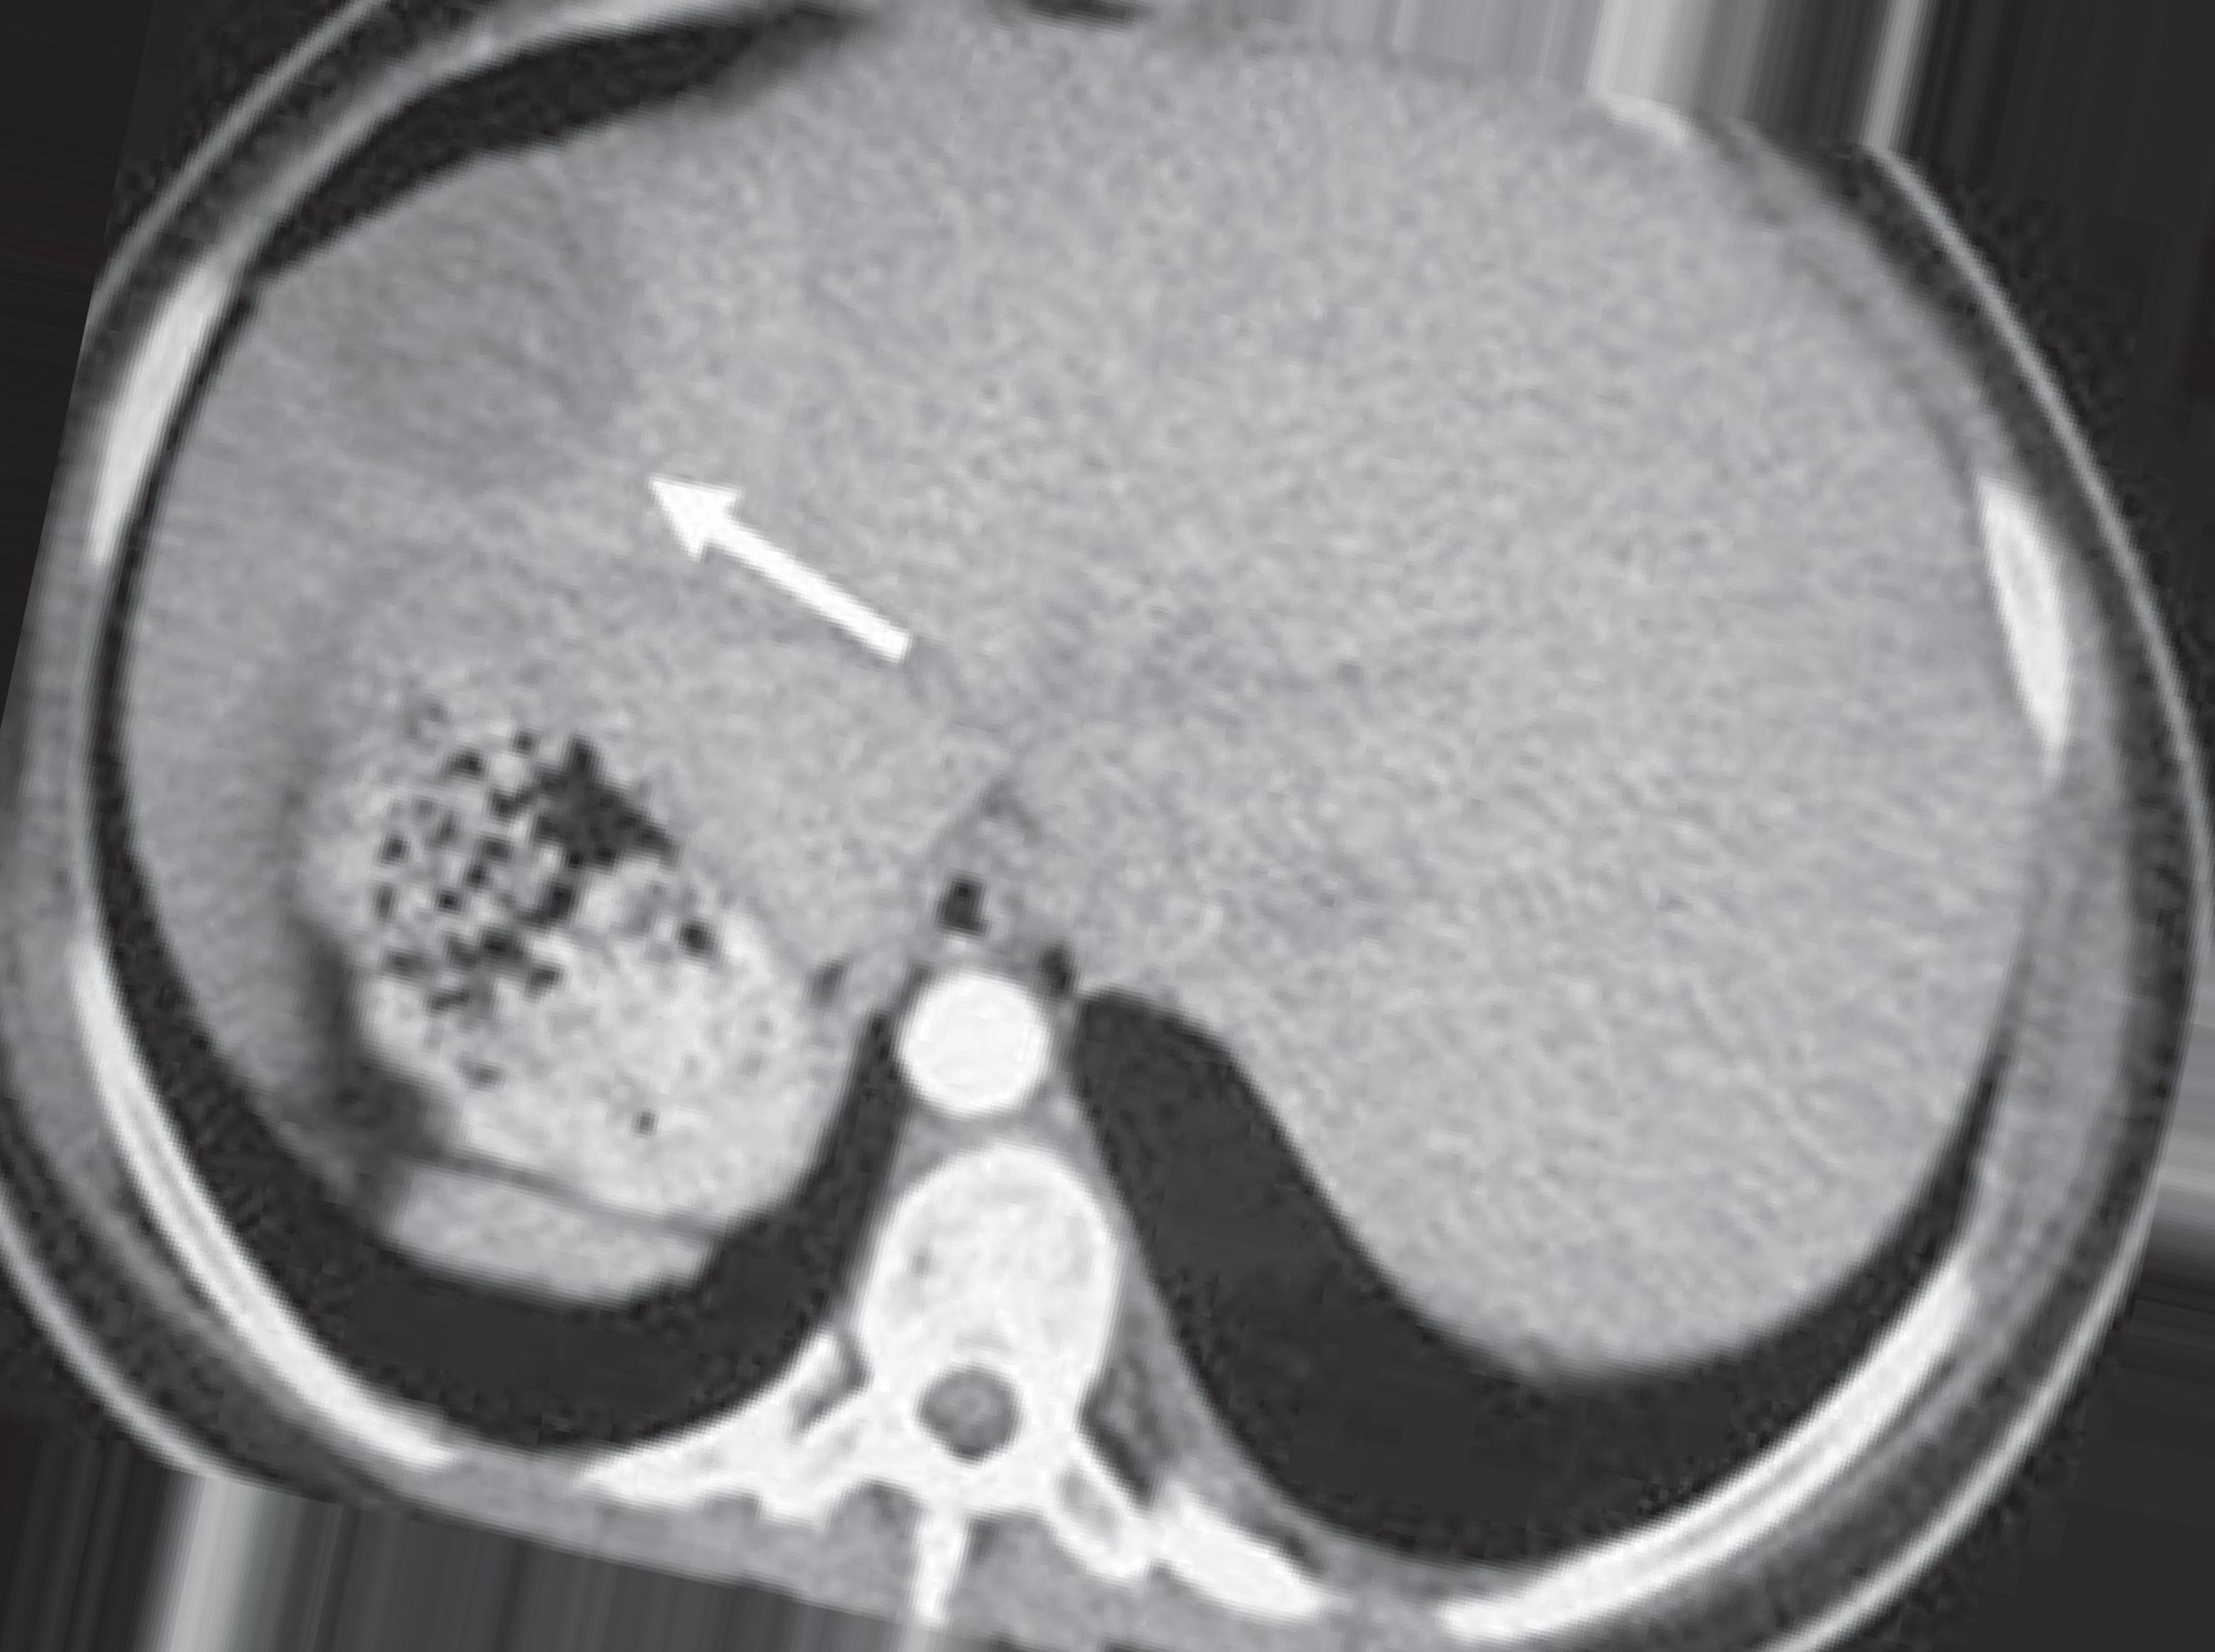anomaly: (300, 215, 675, 493)
